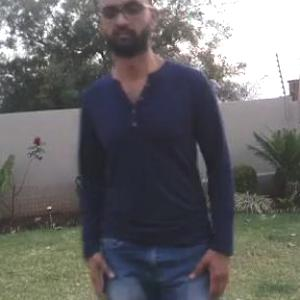follow: (93, 0, 227, 299)
